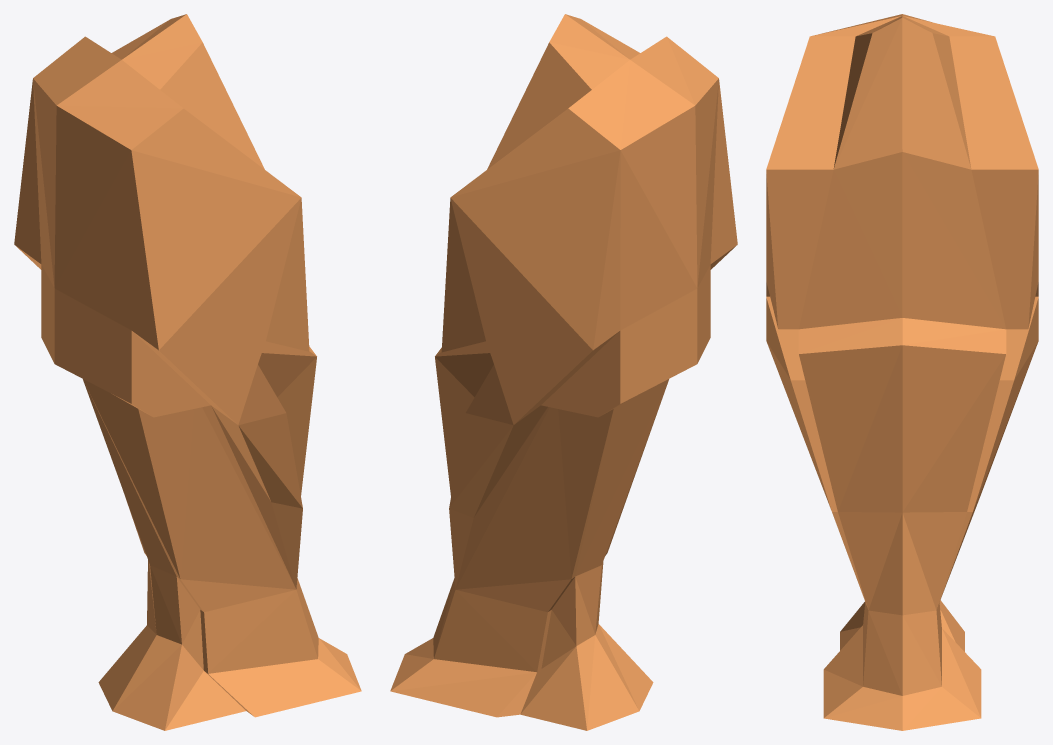
File: Rock_Large_Canyon_Eroded_19.FBX
3 views of the same model, side by side, from view 1: azimuth 30°, elevation 25°; view 2: azimuth 150°, elevation 25°; view 3: azimuth 270°, elevation 25° (orthographic). The views are drawn at different scales.
Parts seen in each view (by area): view 1: Rock_Large_Canyon_Eroded_19; view 2: Rock_Large_Canyon_Eroded_19; view 3: Rock_Large_Canyon_Eroded_19.
Boxes of the visible parts, x1=… form: Rock_Large_Canyon_Eroded_19: x1=14, y1=14, x2=361, y2=730; Rock_Large_Canyon_Eroded_19: x1=390, y1=14, x2=737, y2=730; Rock_Large_Canyon_Eroded_19: x1=766, y1=14, x2=1038, y2=730.
Size of the model in its own units: 5758 by 12771 by 4933.
